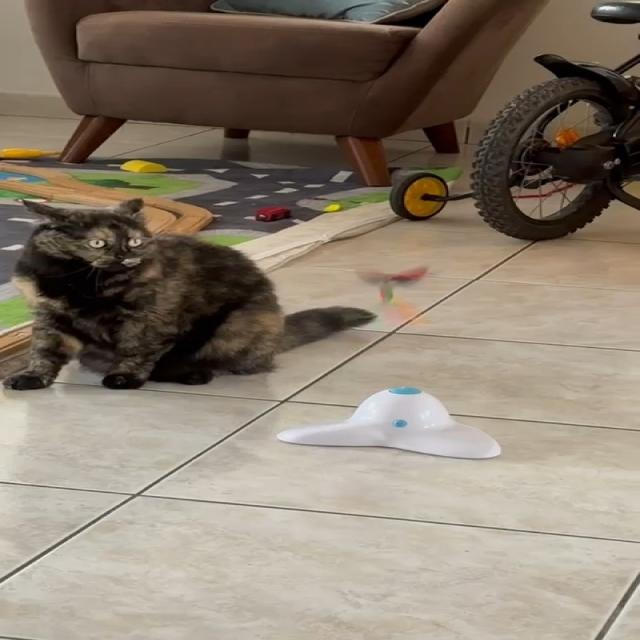authorized: (3, 197, 377, 390)
